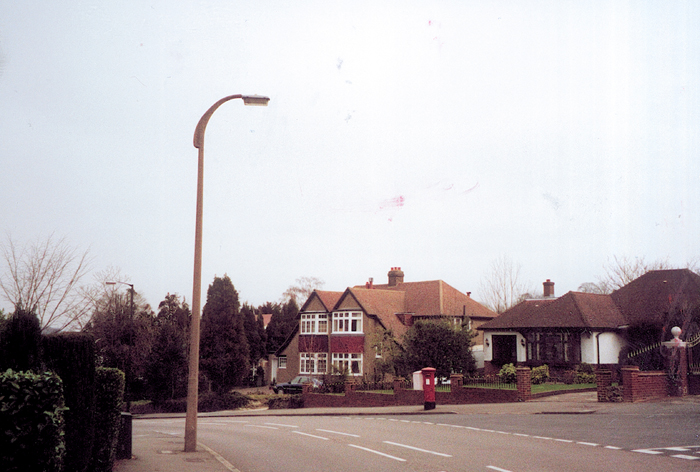light_pole: (180, 109, 211, 457)
